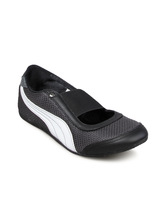shoes: (12, 62, 153, 158)
